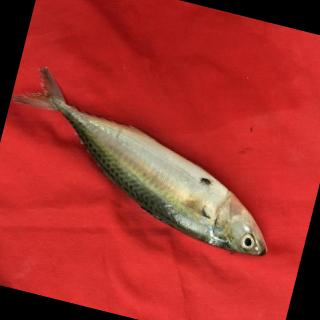Ikan: (1, 41, 319, 276)
